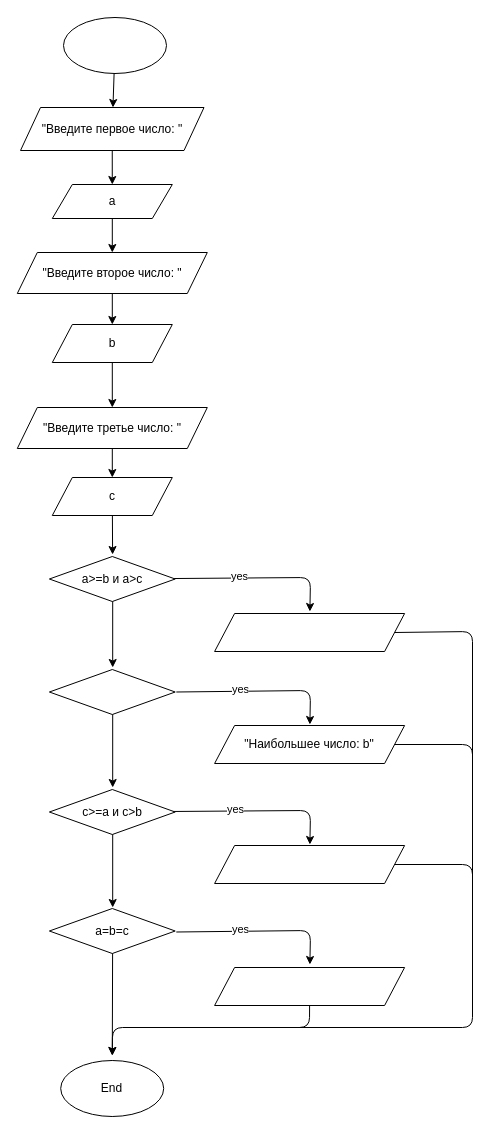
Some shapes in this 492 by 1134 pixel diagram are drawn without their labels. Here are the shapes that lost their labels. From the top down, the box of each, then its label:
(62, 16, 166, 74): Start
(214, 612, 405, 652): "Наибольшее число: a"
(48, 668, 175, 714): b>a и b>=c
(214, 844, 405, 884): "Наибольшее число: c"
(214, 966, 405, 1006): "Числа a, b и c равны"
